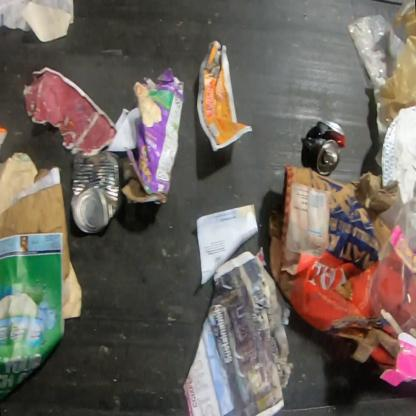cardboard: (268, 165, 398, 376), (0, 164, 83, 321), (118, 67, 186, 206), (20, 65, 120, 157), (0, 151, 38, 215), (378, 332, 415, 389), (381, 121, 398, 187)
metal: (69, 148, 120, 235), (303, 117, 347, 177)
soft_plastic: (346, 13, 406, 168), (368, 182, 415, 340), (380, 0, 416, 123)
